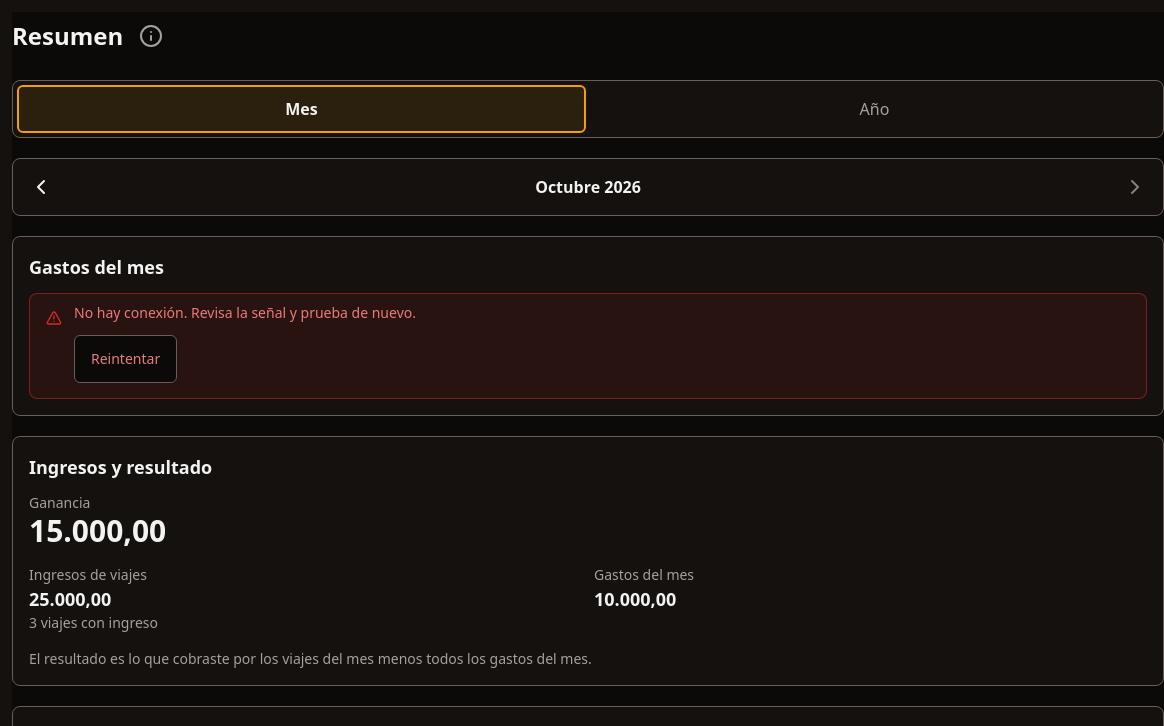
Test: pantalla Resumen: gastos del mes y comparación › error de red: el aviso con "Reintentar", que vuelve a pedir SOLO el gasto del mes
Expected: the message "No hay conexión. Revisa la señal y prueba de nuevo. Reintentar" is shown, x1=29 y1=293 x2=1147 y2=399
Click the button "Reintentar" at (126, 359), box x1=74 y1=335 x2=177 y2=383
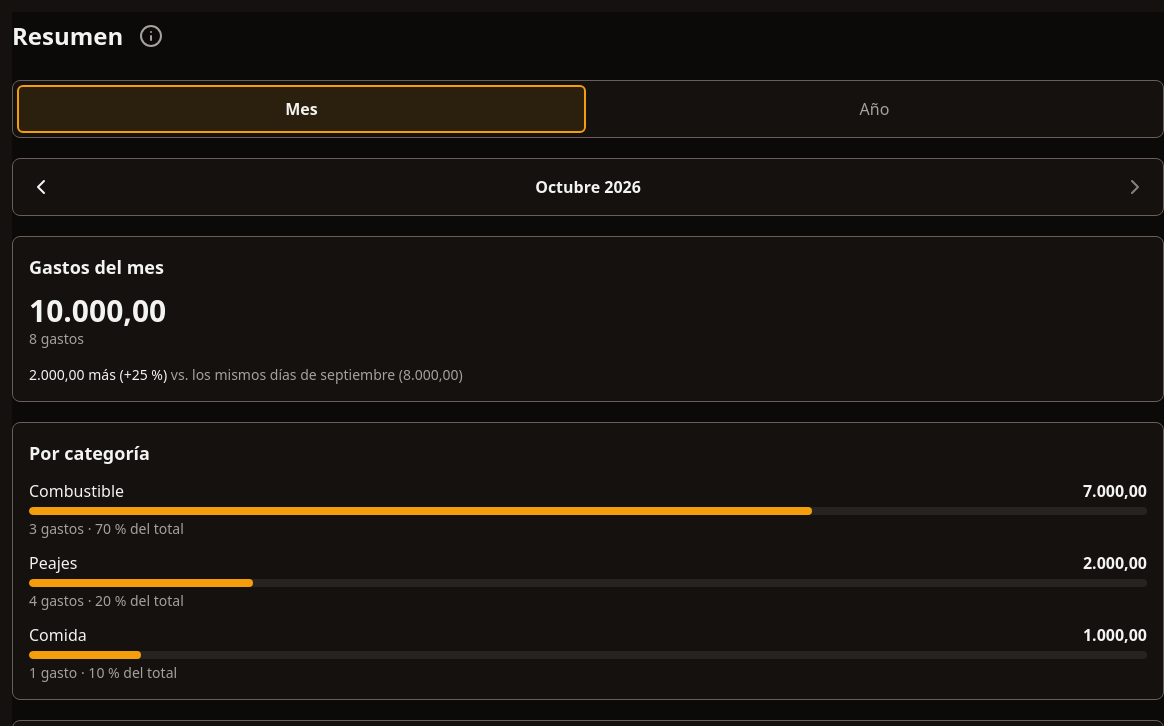
Expected: the message "No hay conexión. Revisa la señal y prueba de nuevo. Reintentar" is gone
Expected: the element with id "resumen-gastos" shows "10.000,00", x1=29 y1=290 x2=166 y2=331
Expected: the element with id "resumen-por-categoria" is shown, x1=12 y1=422 x2=1163 y2=700
